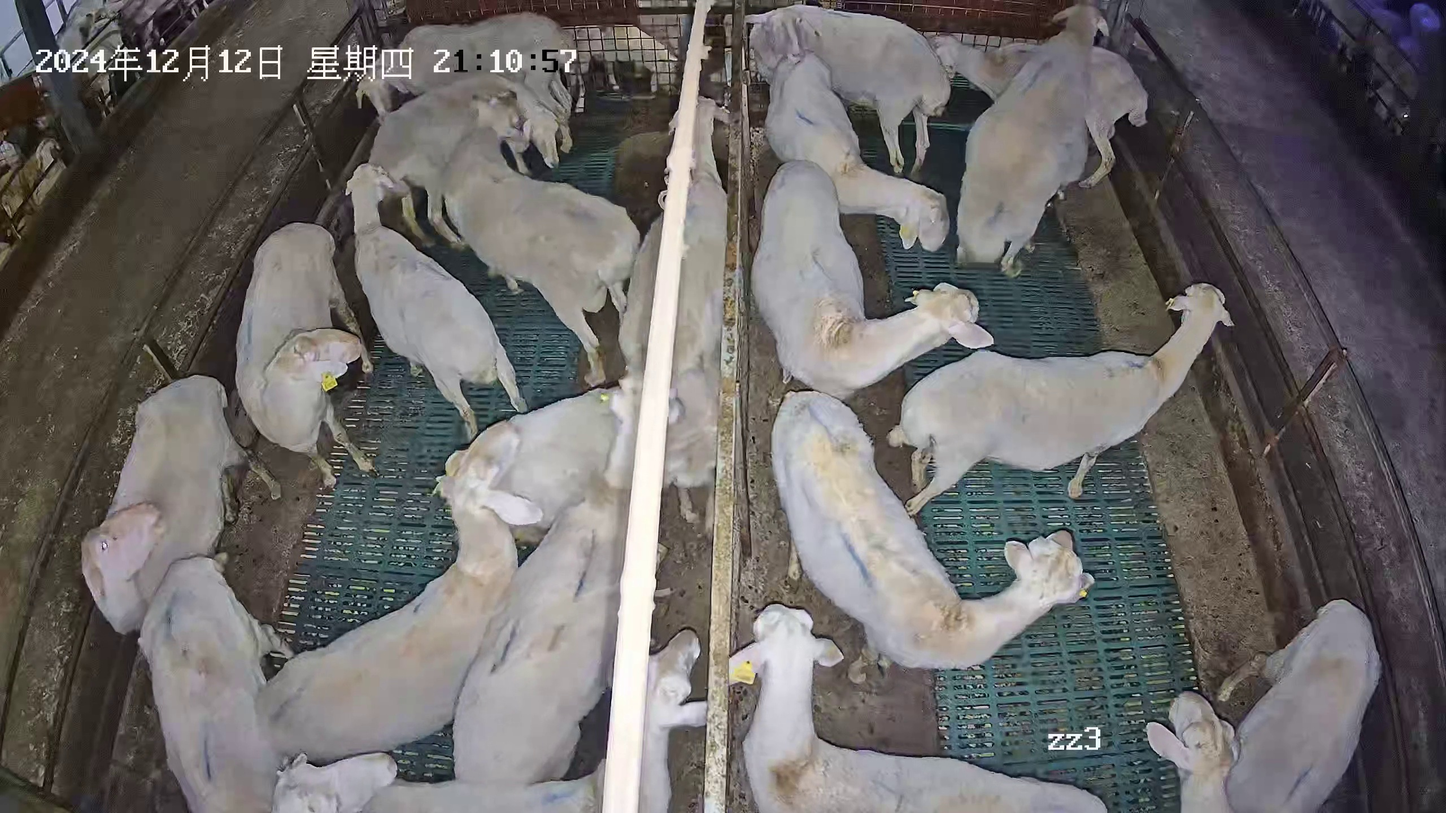Smounting: (952, 1, 1112, 282)
